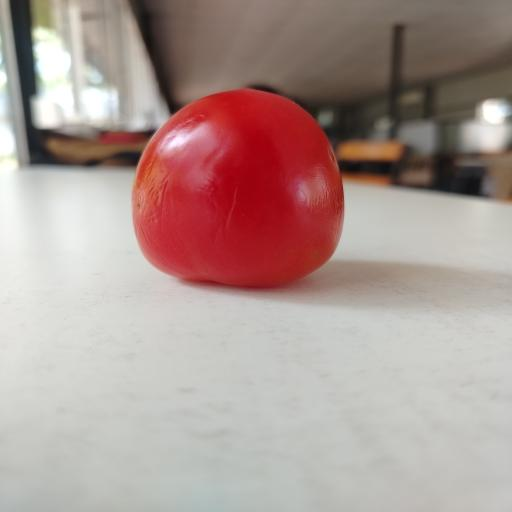overipe: (132, 89, 344, 286)
